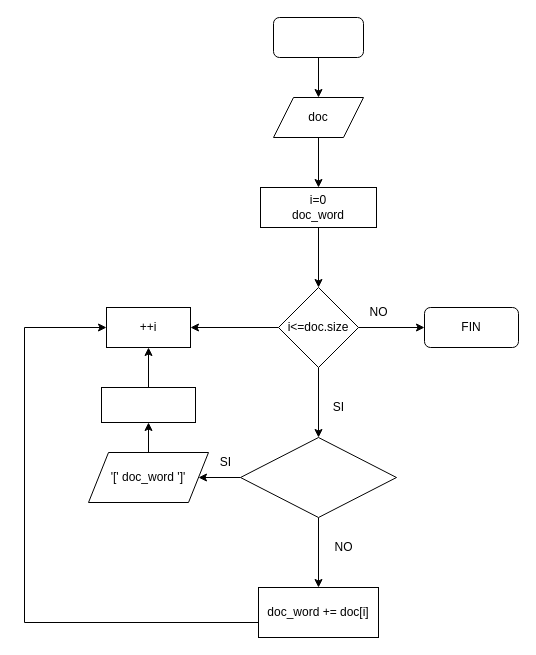
The diagram is 536 pixels wide and 655 high, and some of its shapes have lost their labels. Here are the shapes that lost their labels. From the top down, the centre of each, then its label:
point 318,37: INICIO
point 148,404: doc_word=""
point 318,477: doc_char==' ' OR i==doc_size1 AND doc!=""
